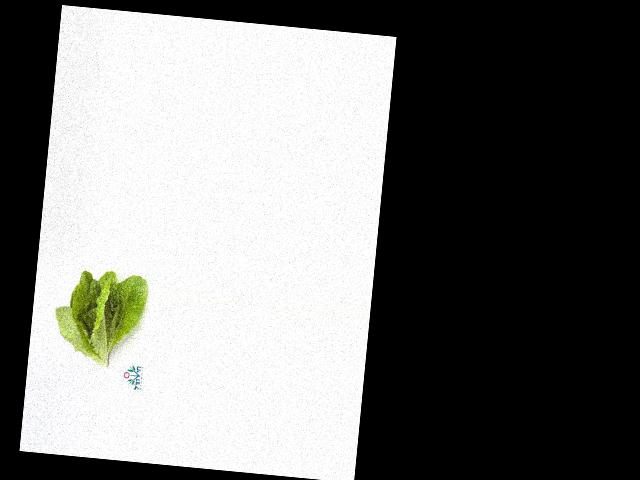lettuce: (55, 285, 189, 387)
